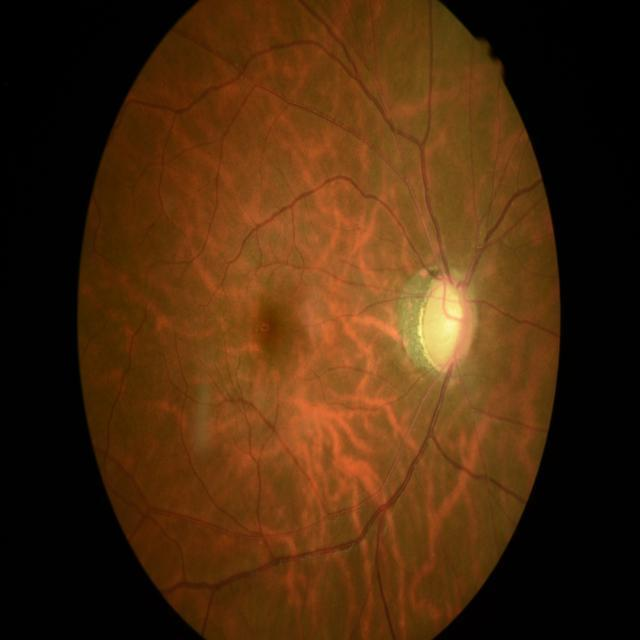cup: (426, 282, 468, 364)
disk: (418, 274, 476, 372)
